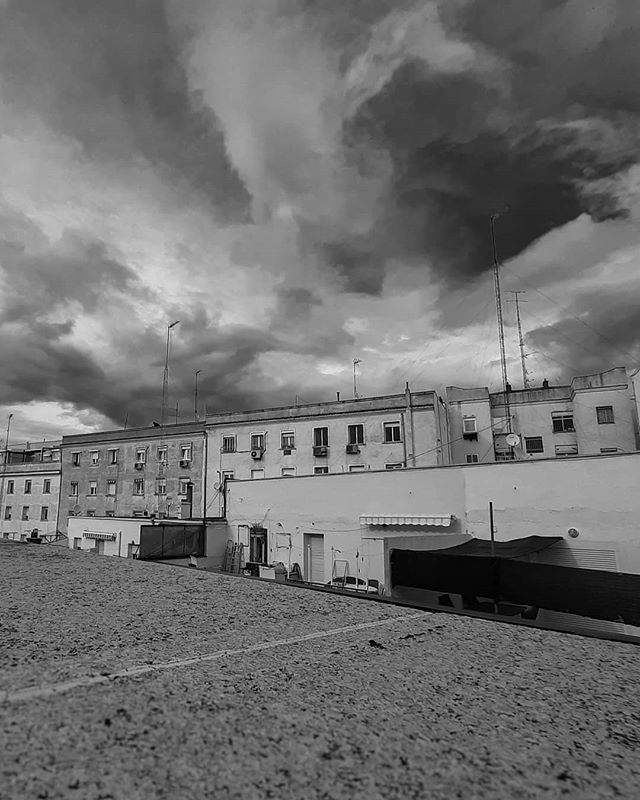building: (199, 403, 451, 587), (431, 375, 640, 528), (55, 403, 209, 558), (1, 439, 65, 550)
sky: (1, 1, 640, 420)
